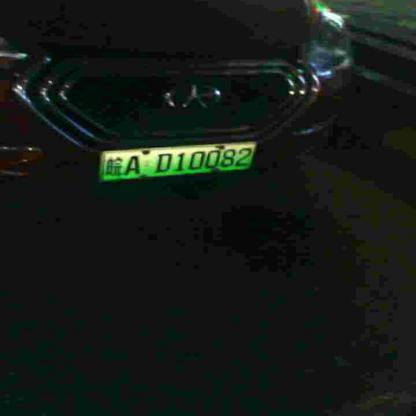lp: (98, 142, 258, 182)
